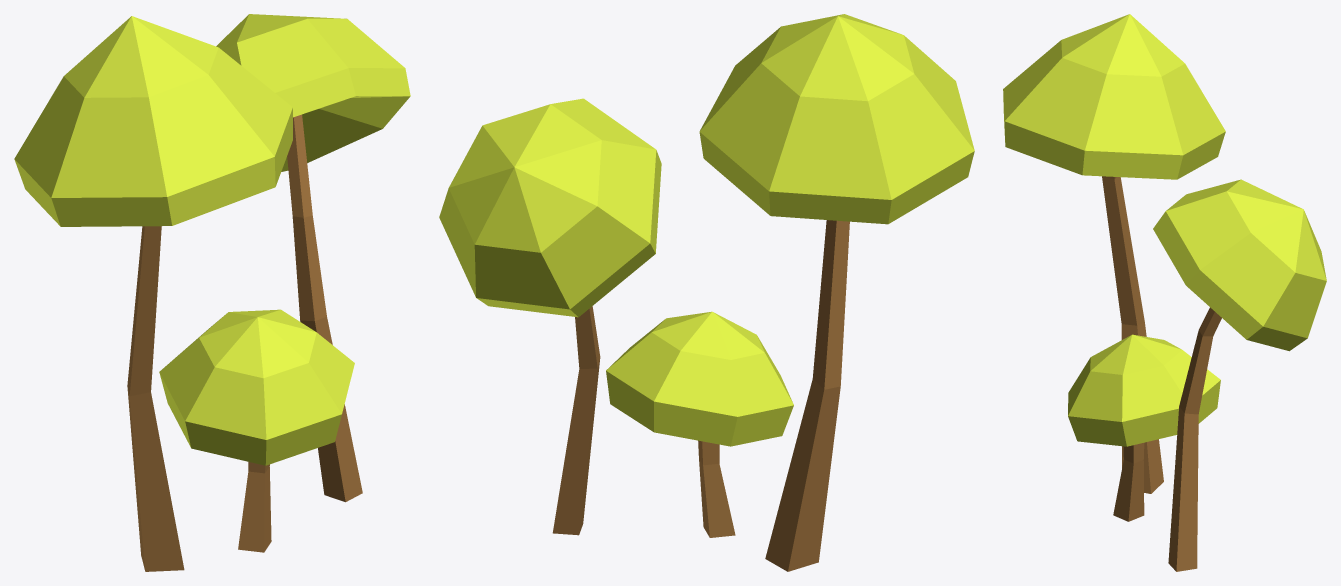
File: mushroom-toadstool-green.glb
3 renders of one model, left to right at view 1: azimuth 30°, elevation 25°; view 2: azimuth 150°, elevation 25°; view 3: azimuth 270°, elevation 25°, orthographic. The views are drawn at different scales.
Parts seen in each view (by area): view 1: mushroom-toadstool-green; view 2: mushroom-toadstool-green; view 3: mushroom-toadstool-green.
Part boxes in pixels (x1=…): mushroom-toadstool-green: x1=14, y1=14, x2=410, y2=571; mushroom-toadstool-green: x1=439, y1=14, x2=974, y2=571; mushroom-toadstool-green: x1=1003, y1=14, x2=1326, y2=571.
Bounding box in the file's own units: 0.3635 × 0.4465 × 0.2875.
